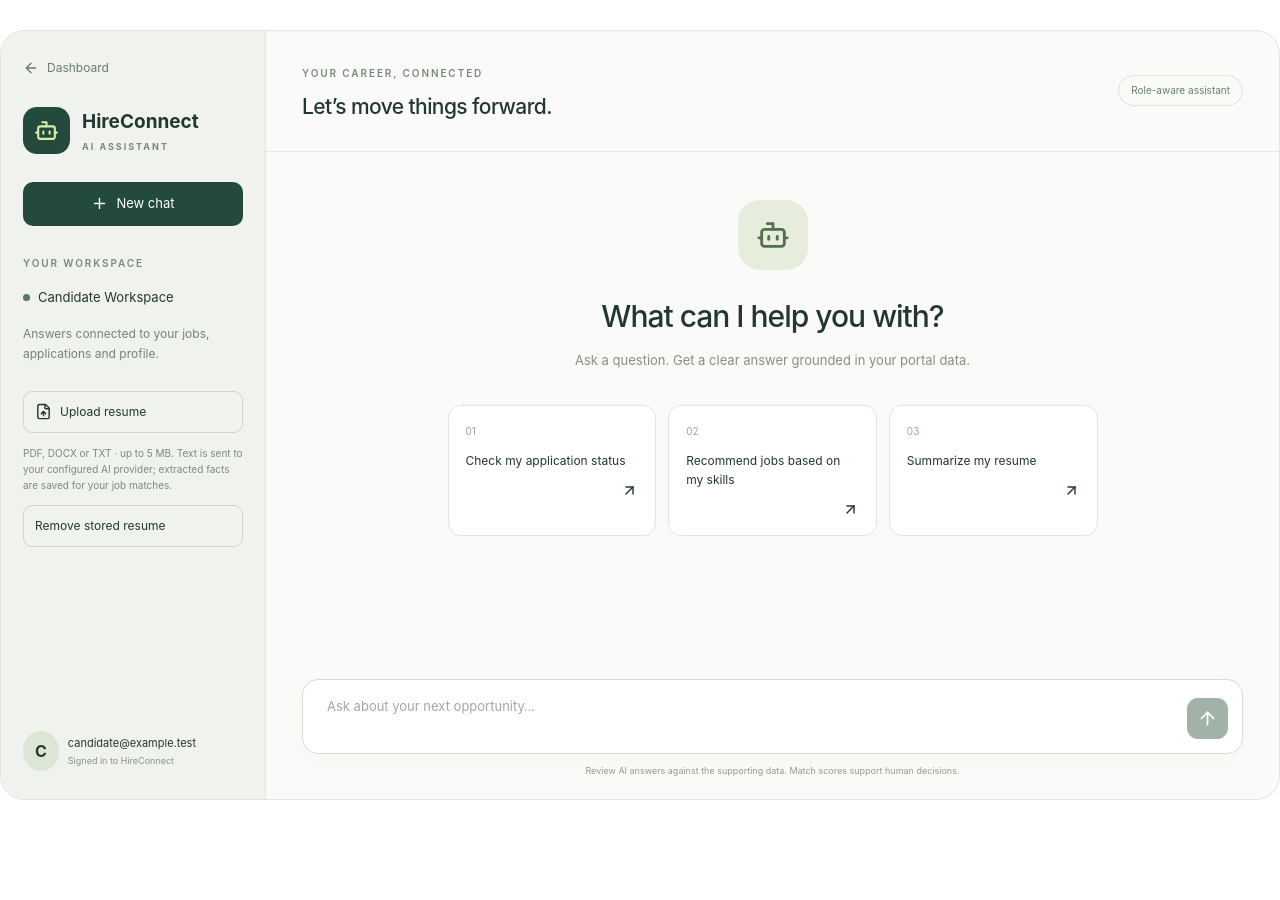
Test: AI Assistant integration › sends chat without client-controlled role and displays supporting evidence
What coordinates should you click on to do the following:
click the button "01 Check my application status"
I would click on:
 (552, 471)
Its box is top-left (448, 405), bottom-right (656, 536).
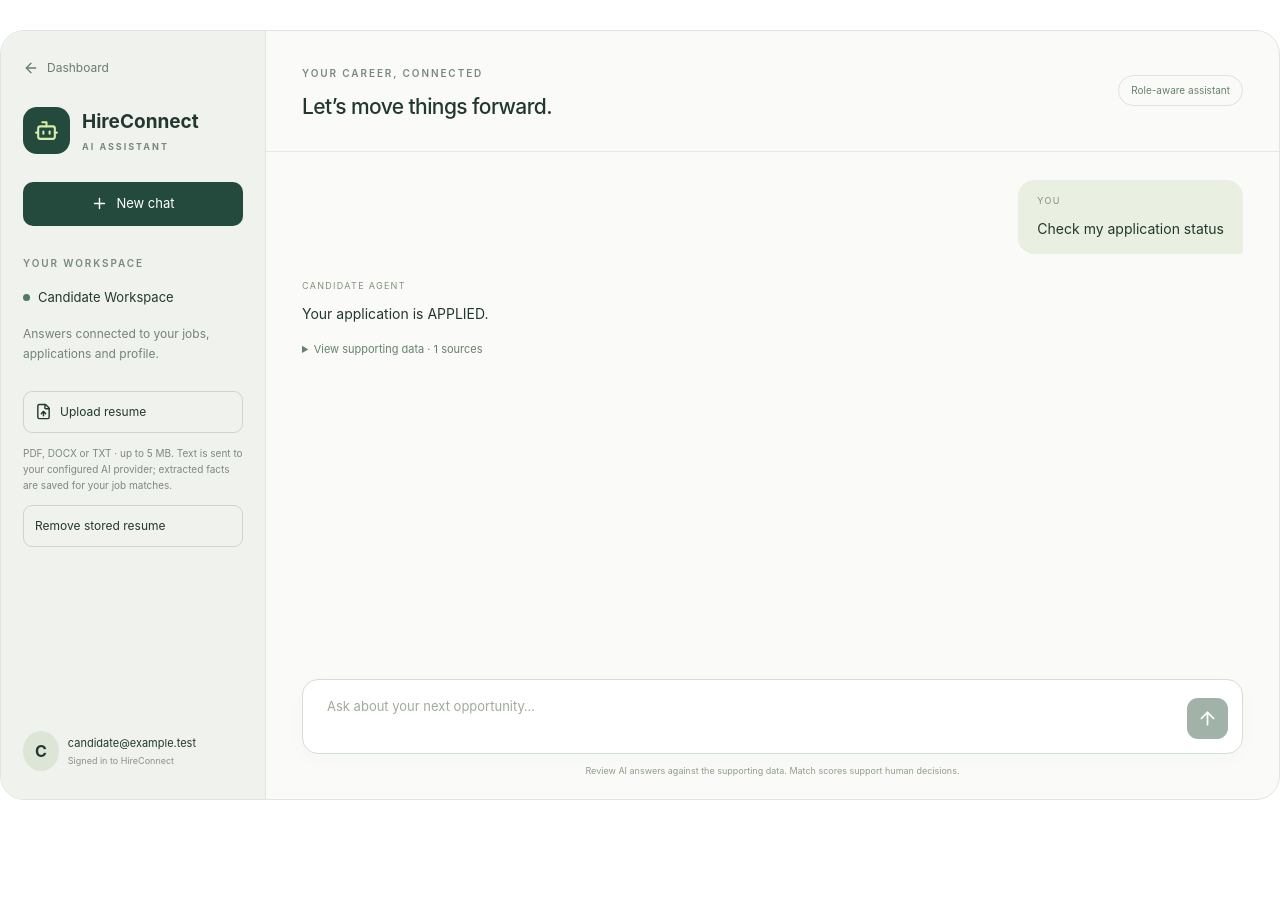
expect the text "Your application is APPLIED." is shown: met, box top-left (302, 305), bottom-right (488, 322)
expect the heading "View supporting data · 1 sources" is shown: met, box top-left (314, 342), bottom-right (482, 356)
